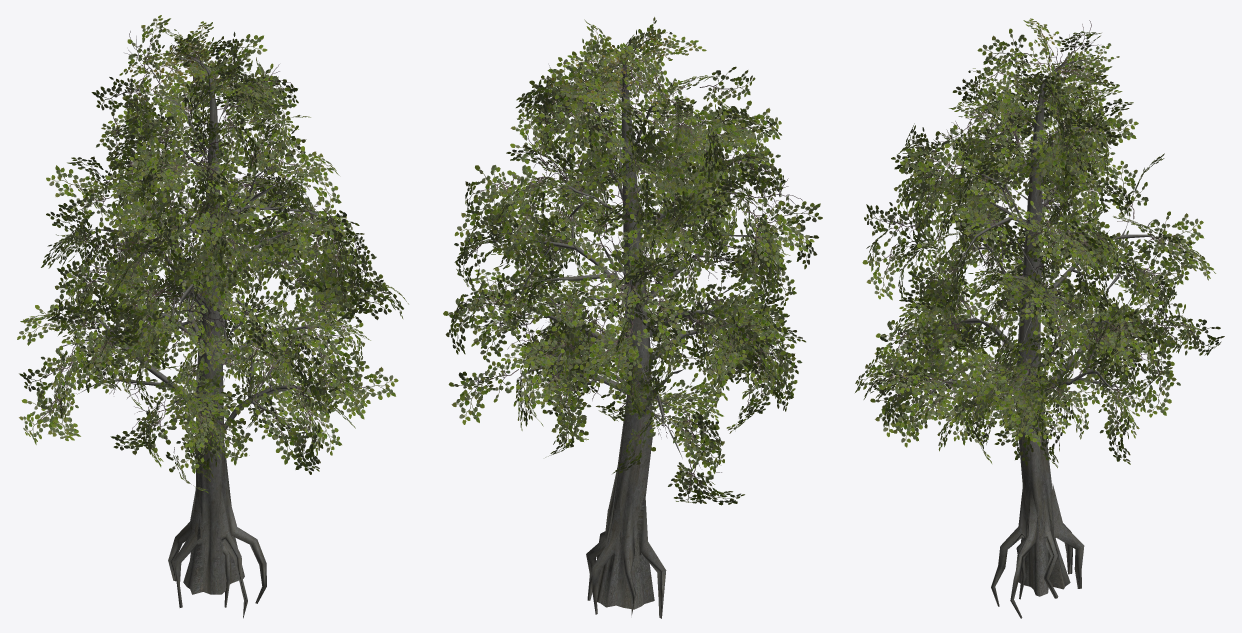
Rendered from tilleul_mobile.glb.
3 views of the same model, side by side, from view 1: azimuth 30°, elevation 25°; view 2: azimuth 150°, elevation 25°; view 3: azimuth 270°, elevation 25° (orthographic). The views are drawn at different scales.
Visible parts, largest first — view 1: Linden_LOD0_M_Branch.005_0, Linden_LOD0_M_Bark.005_0; view 2: Linden_LOD0_M_Branch.005_0, Linden_LOD0_M_Bark.005_0; view 3: Linden_LOD0_M_Branch.005_0, Linden_LOD0_M_Bark.005_0.
Boxes of the visible parts, x1,y1,x2,y2 form: Linden_LOD0_M_Branch.005_0: (17, 15, 408, 493); Linden_LOD0_M_Bark.005_0: (58, 43, 359, 618); Linden_LOD0_M_Branch.005_0: (443, 17, 822, 505); Linden_LOD0_M_Bark.005_0: (483, 54, 781, 618); Linden_LOD0_M_Branch.005_0: (855, 18, 1224, 467); Linden_LOD0_M_Bark.005_0: (906, 50, 1174, 618).
Bounding box in the file's own units: 10.38 × 17.97 × 10.79.
2 materials, 2 textured.
